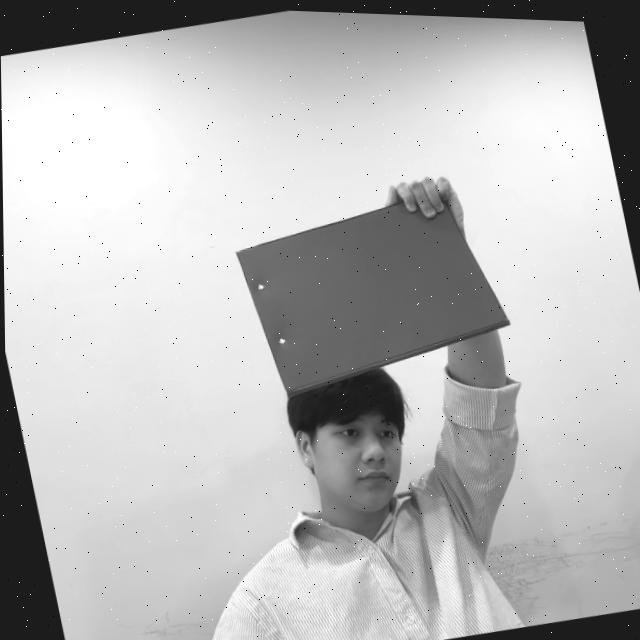face: (306, 401, 421, 518)
